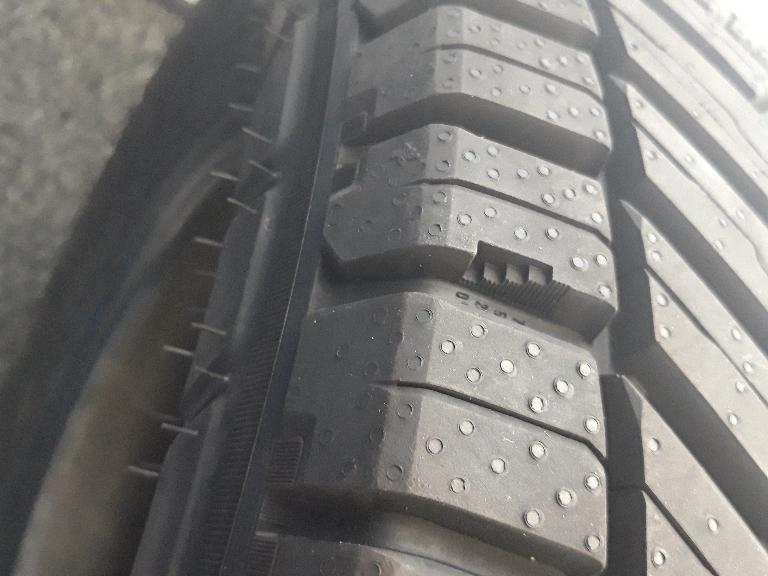temoin:100: (458, 239, 571, 324)
